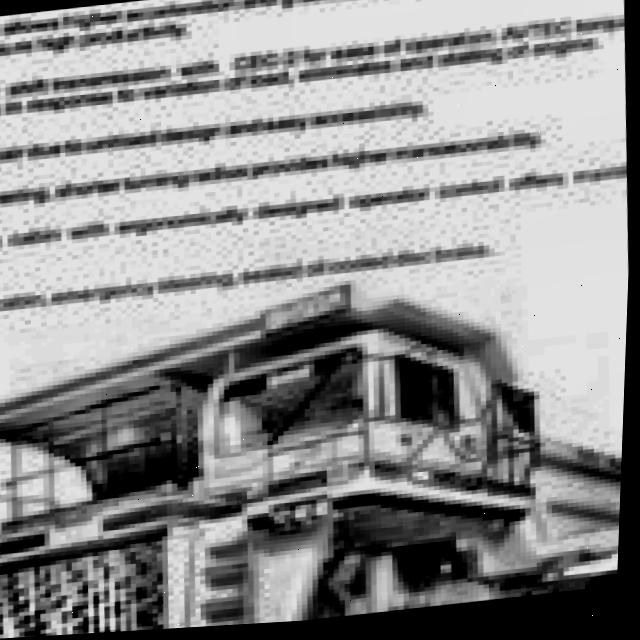dump_truck: (0, 265, 631, 640)
